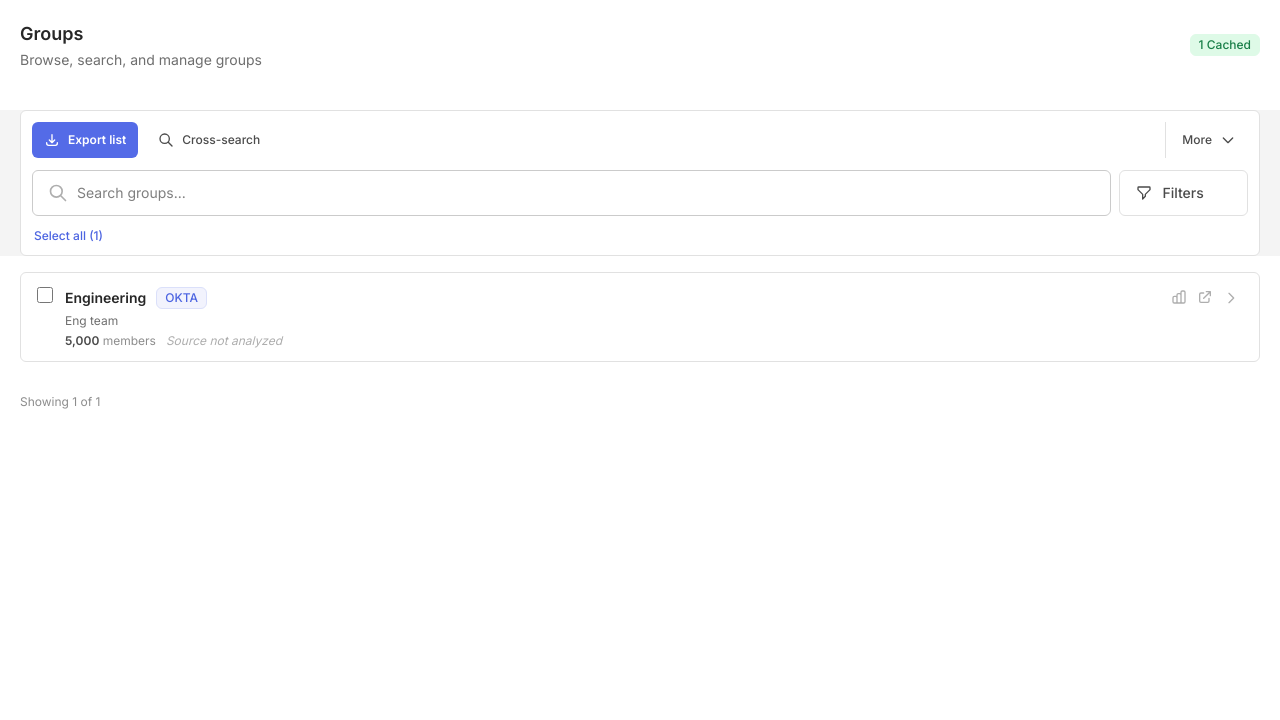
Test: GroupsTab sub-navigation › does not analyze on a plain drill-in when the group is over the auto-load budget
The image size is (1280, 720).
Click the button named "Expand Engineering" at (1231, 298), box [1219,286,1243,310]
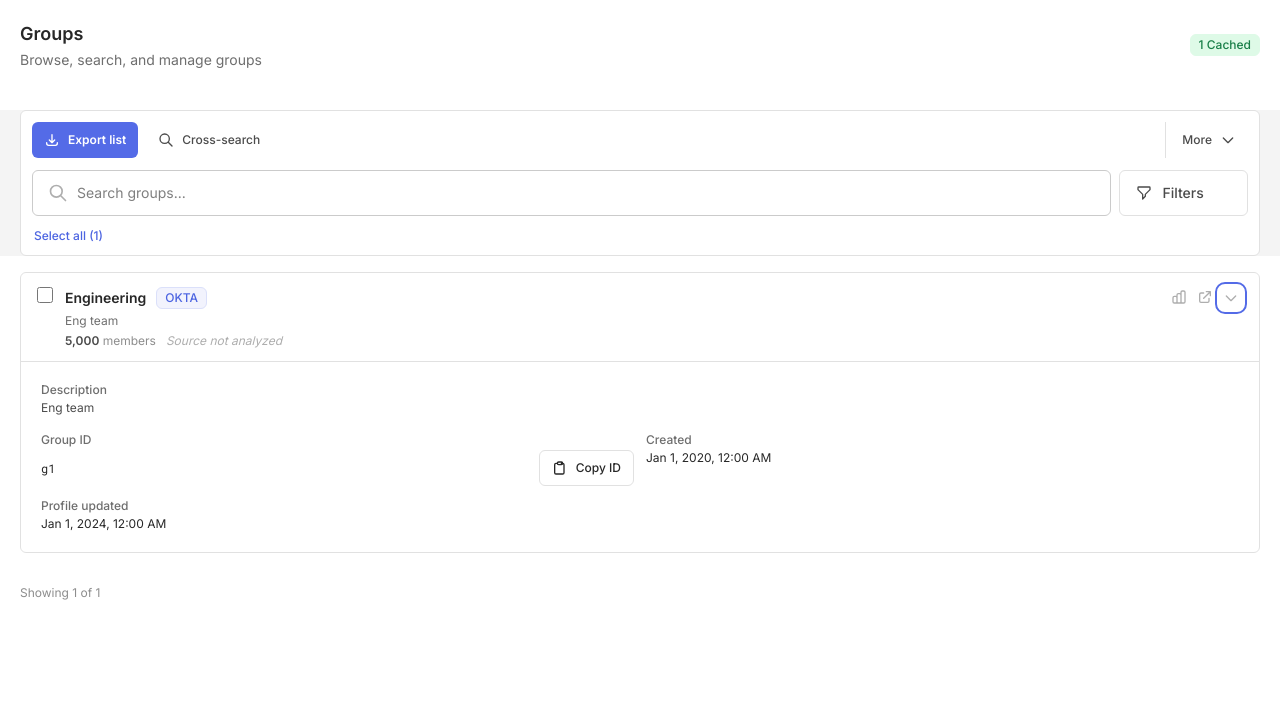
Click the button named "View group details" at (640, 317), box [21,273,1259,361]
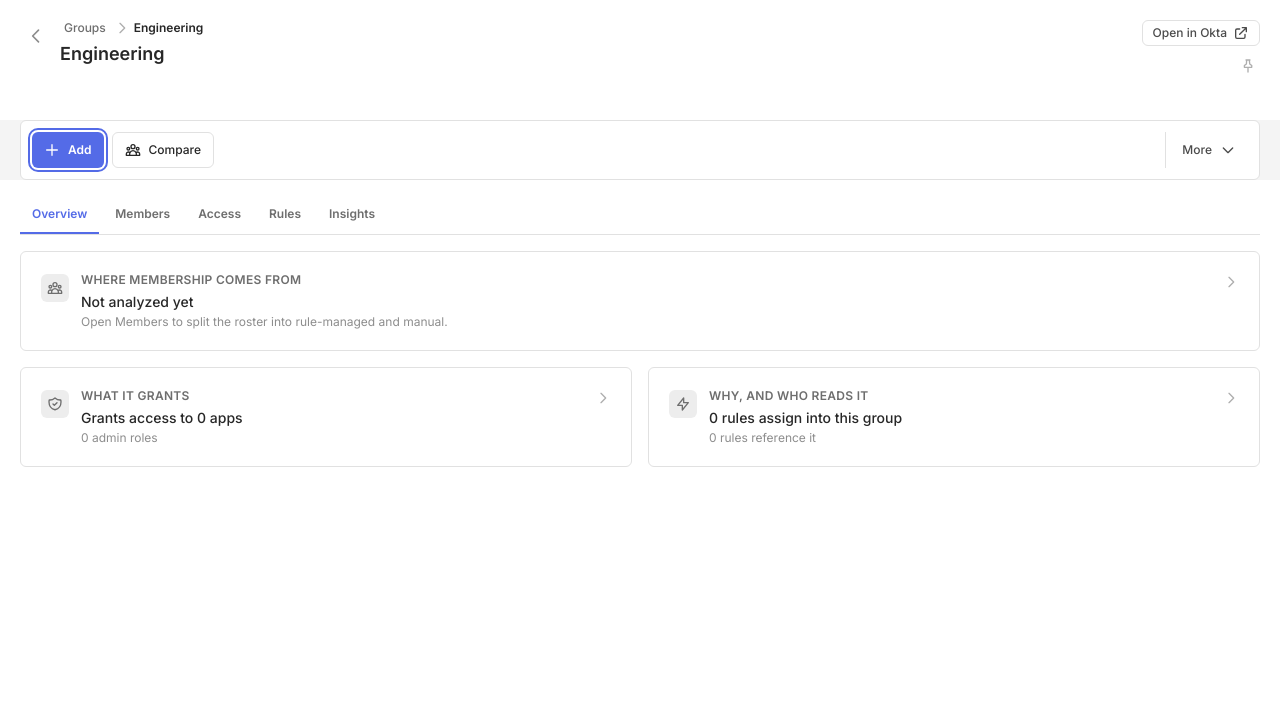
Click the tab "Members" at (143, 215), box [103,196,182,234]
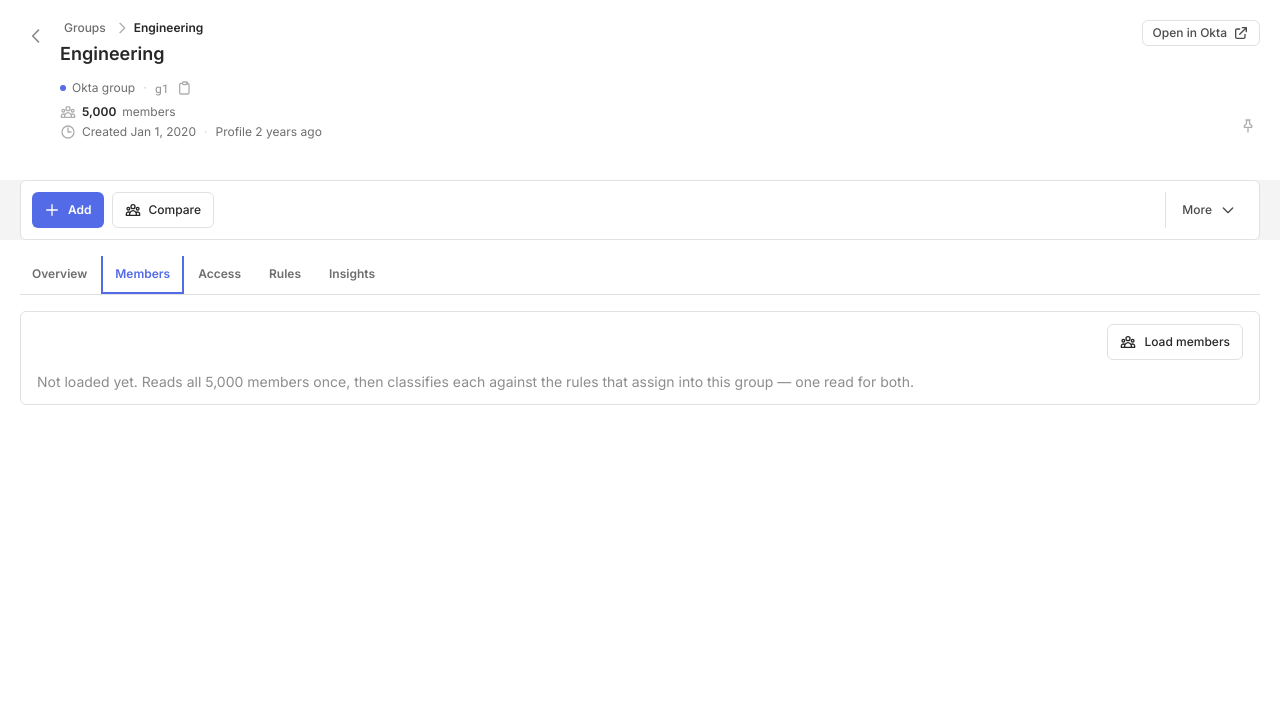
Result: the button "Load members" is shown at [1108,324,1243,360]
